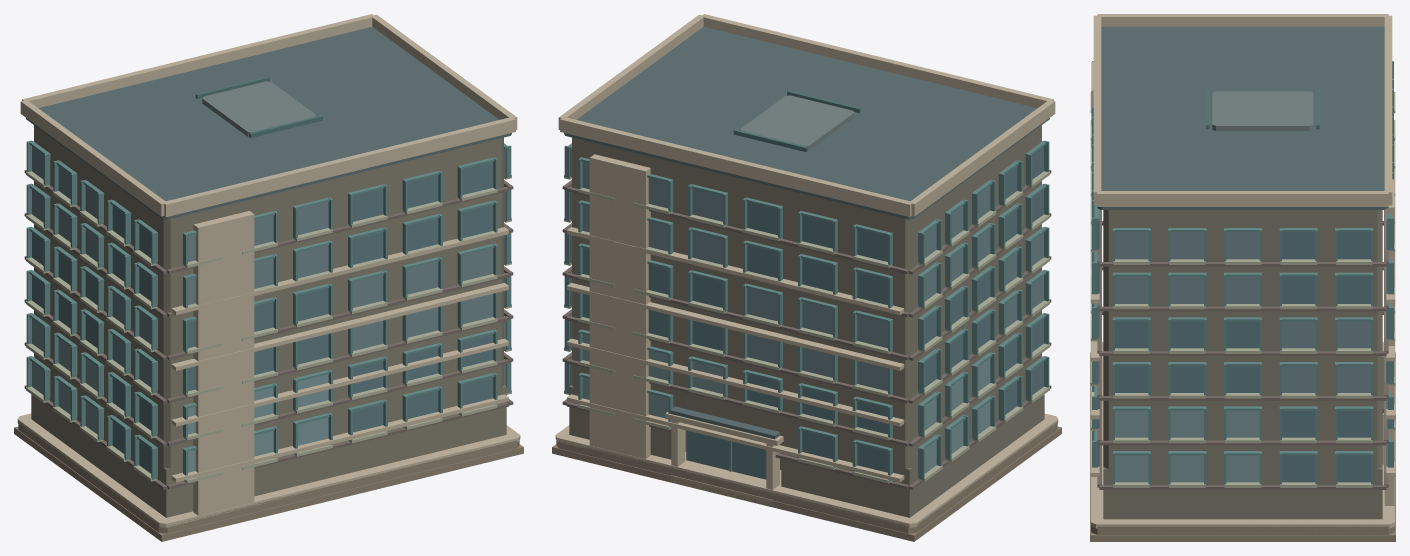
3 views of the same model, side by side, from view 1: azimuth 30°, elevation 25°; view 2: azimuth 150°, elevation 25°; view 3: azimuth 270°, elevation 25° (orthographic). The views are drawn at different scales.
Visible parts, largest first — view 1: form, relief, glaze, glowing; view 2: form, relief, glaze, glowing; view 3: form, glaze, relief, glowing.
Part boxes in pixels (box(x1,y1,x2,y2)): form: box(14, 14, 523, 541); relief: box(26, 140, 511, 483); glaze: box(32, 146, 505, 477); glowing: box(58, 166, 493, 364); form: box(552, 14, 1061, 541); relief: box(564, 140, 1049, 483); glaze: box(570, 146, 1043, 479); glowing: box(648, 178, 990, 351); form: box(1090, 14, 1395, 541); glaze: box(1098, 209, 1387, 482); relief: box(1090, 61, 1395, 487); glowing: box(1098, 232, 1259, 392).
Bounding box in the file's own units: 17 × 15 × 12.
